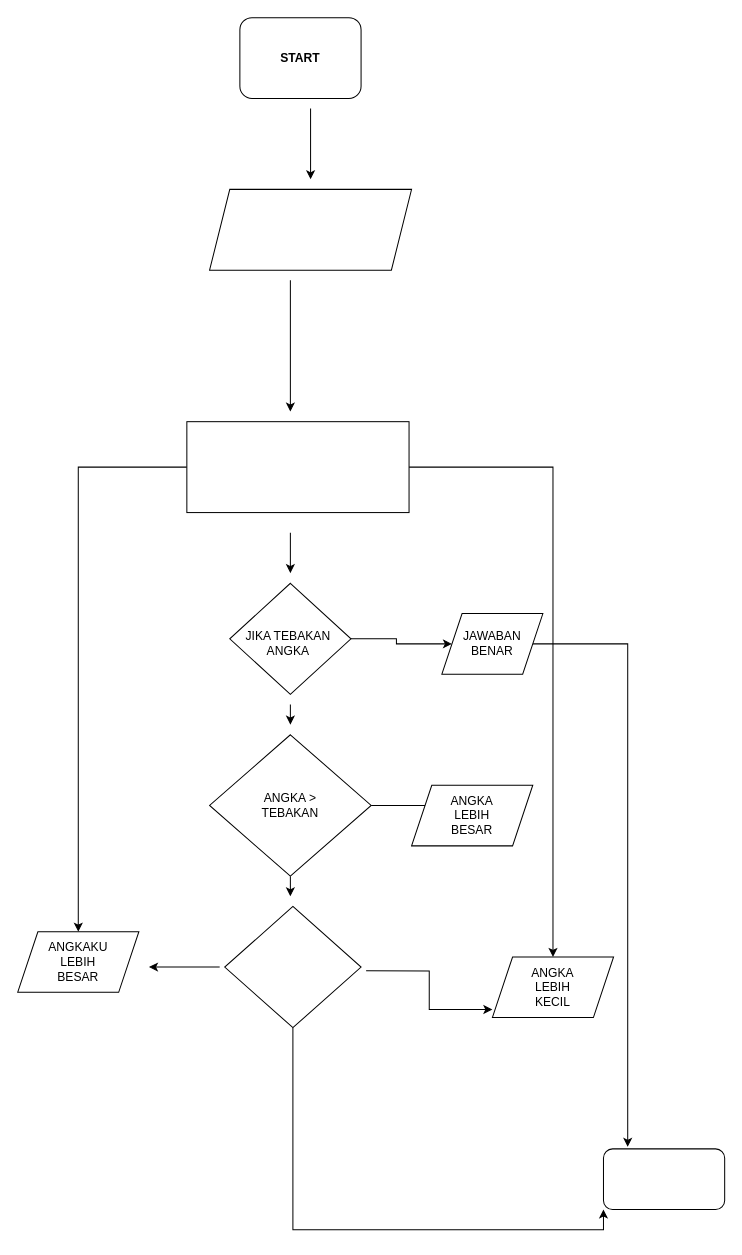
The diagram is 742 pixels wide and 1255 high, and some of its shapes have lost their labels. Each missing label, with the centre of its shape:
ANGKA 1-100: (310,229)
END: (663,1178)
MENEBAK: (297,467)
TEBAKAN>ANGKA: (292,966)
